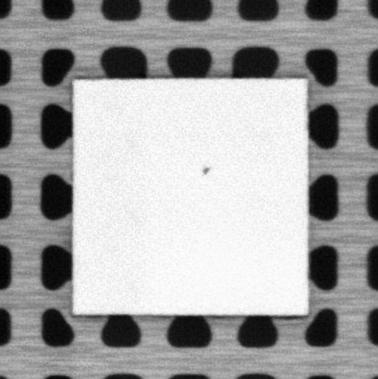DIE_INK: (200, 164, 213, 175)
